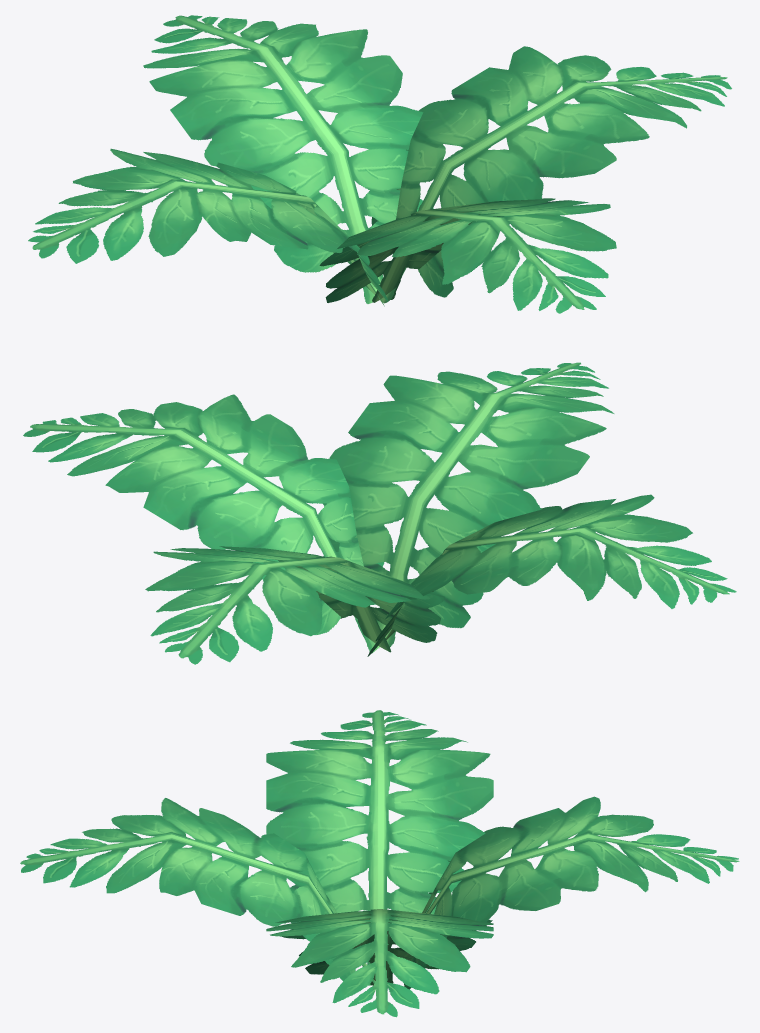
The model's file is MiniPalmeira.dae.
3 renders of one model, top to bottom at view 1: azimuth 30°, elevation 25°; view 2: azimuth 150°, elevation 25°; view 3: azimuth 270°, elevation 25°, orthographic. The views are drawn at different scales.
Visible parts, largest first — view 1: MiniPalmeira; view 2: MiniPalmeira; view 3: MiniPalmeira.
Part boxes in pixels (left/top/right/bottom): MiniPalmeira: left=28, top=15, right=731, bottom=313; MiniPalmeira: left=23, top=362, right=736, bottom=664; MiniPalmeira: left=20, top=710, right=739, bottom=1017.
Size of the model in its own units: 1.73 by 1.73 by 0.4115.
